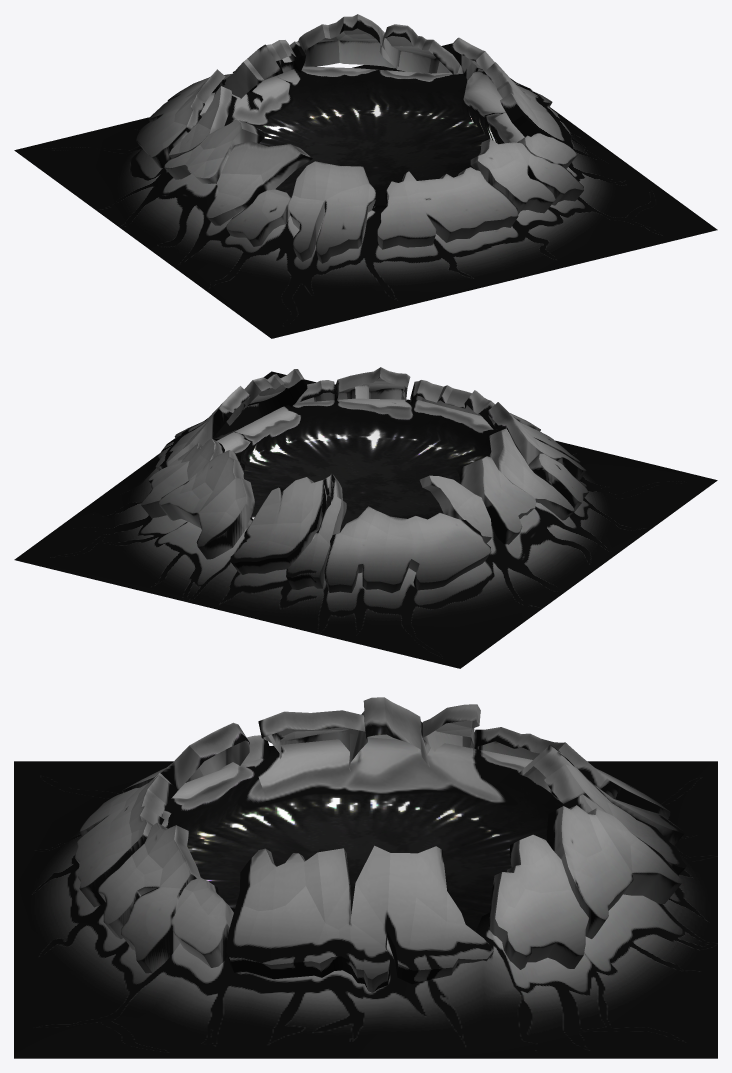
File: VFX_Crater_Impact_01_Mesh.FBX
3 views of the same model, one above another, from view 1: azimuth 30°, elevation 25°; view 2: azimuth 150°, elevation 25°; view 3: azimuth 270°, elevation 25° (orthographic). The views are drawn at different scales.
Parts seen in each view (by area): view 1: VFX_Crater_Impact_01_Mesh; view 2: VFX_Crater_Impact_01_Mesh; view 3: VFX_Crater_Impact_01_Mesh.
Boxes of the visible parts, box(x1,y1,x2,y2) form: VFX_Crater_Impact_01_Mesh: box(14, 14, 717, 338); VFX_Crater_Impact_01_Mesh: box(14, 367, 717, 668); VFX_Crater_Impact_01_Mesh: box(14, 697, 717, 1058).
Size of the model in its own units: 1 by 0.2302 by 1.
